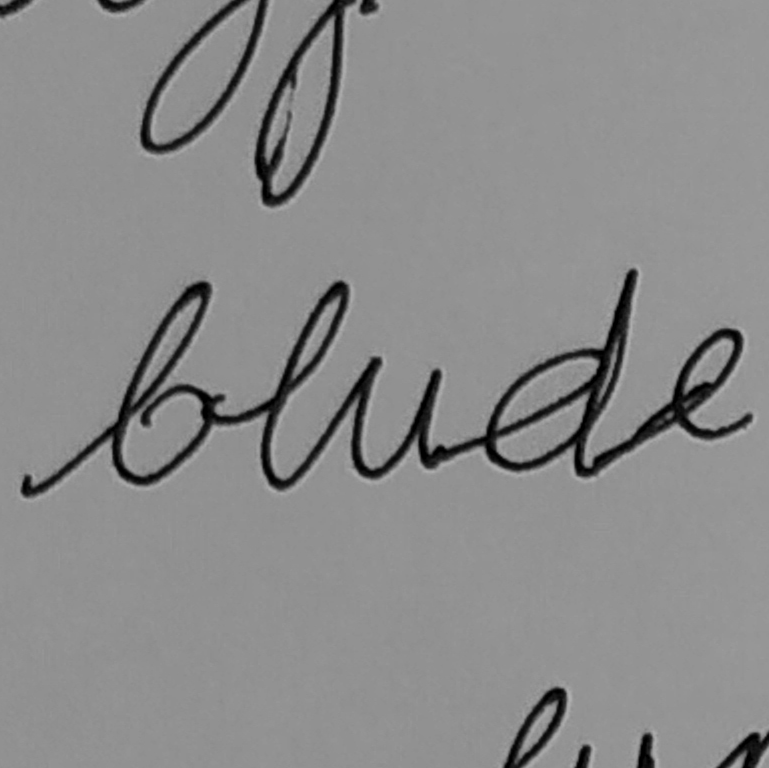b: (106, 278, 224, 493)
d: (481, 265, 641, 483)
e: (669, 323, 758, 442)
l: (255, 274, 351, 492)
u: (348, 351, 446, 484)
